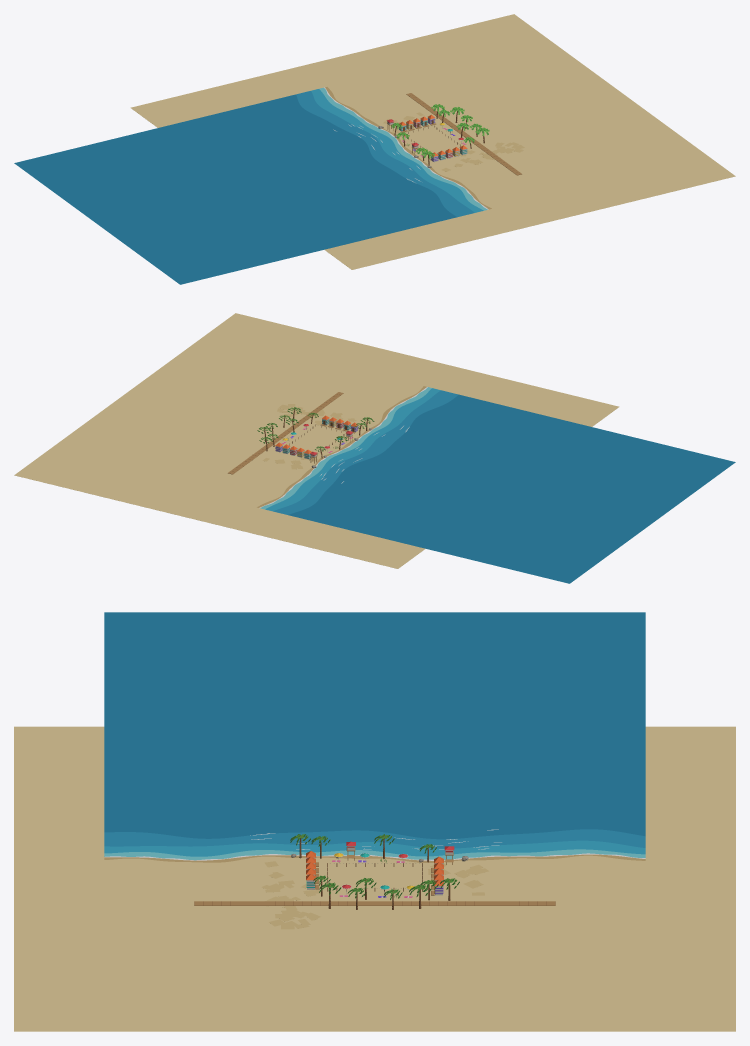
Rendered from beach.glb.
The picture shows the model from 3 angles, top to bottom: view 1: azimuth 30°, elevation 25°; view 2: azimuth 150°, elevation 25°; view 3: azimuth 270°, elevation 25°; orthographic projection. The views are drawn at different scales.
Parts seen in each view (by area): view 1: beach; view 2: beach; view 3: beach.
Part boxes in pixels (x1,y1,x2,y2): beach: (14, 14, 735, 284); beach: (14, 313, 735, 583); beach: (14, 612, 735, 1031).
Size of the model in its own units: 220 by 5.96 by 160.
